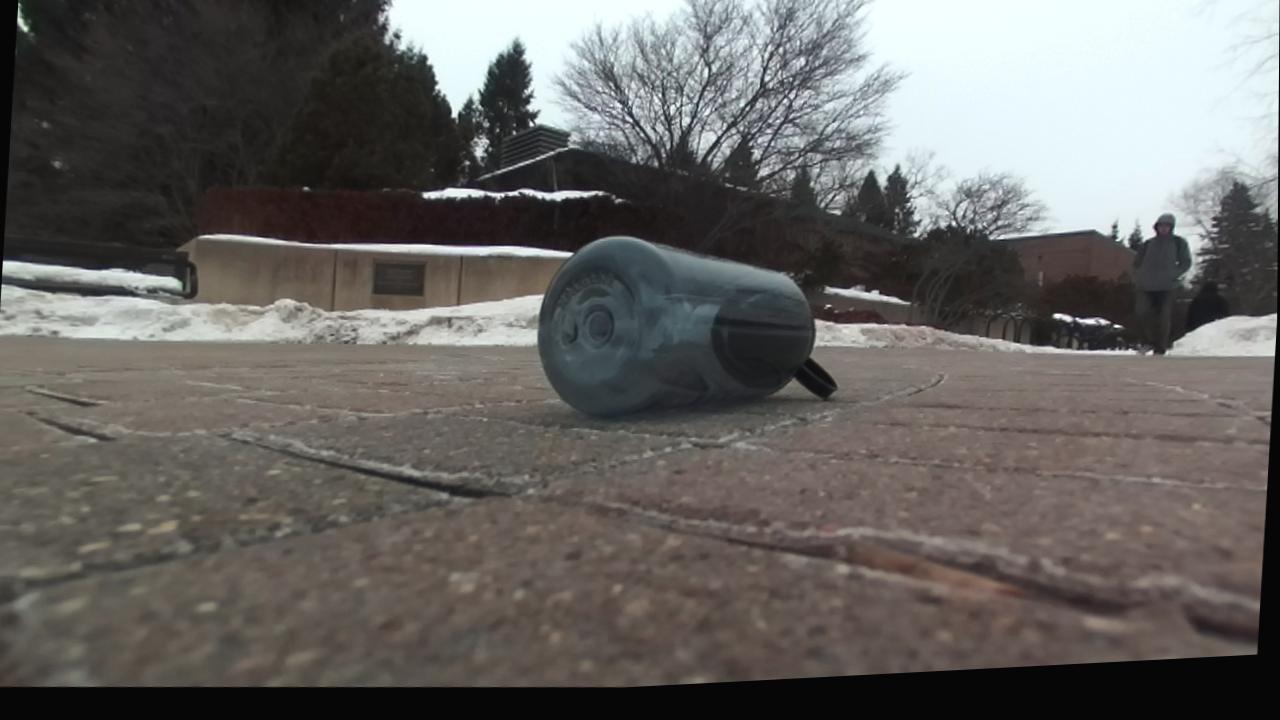bottle: (537, 237, 835, 415)
